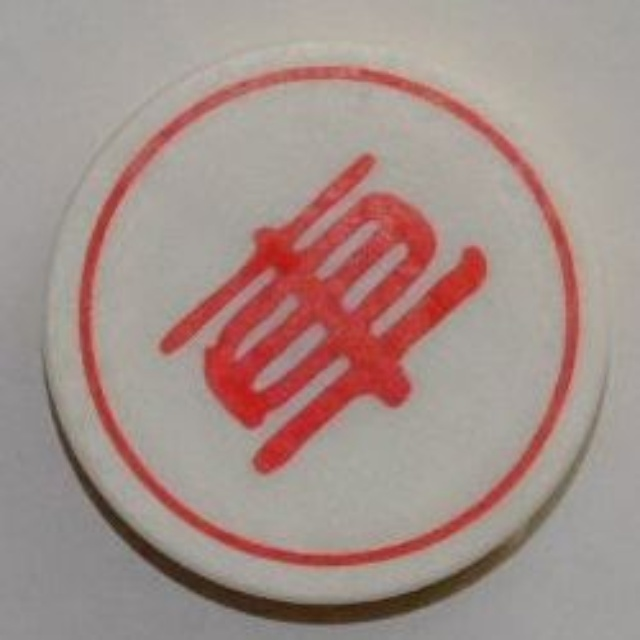red_xe: (44, 32, 611, 612)
